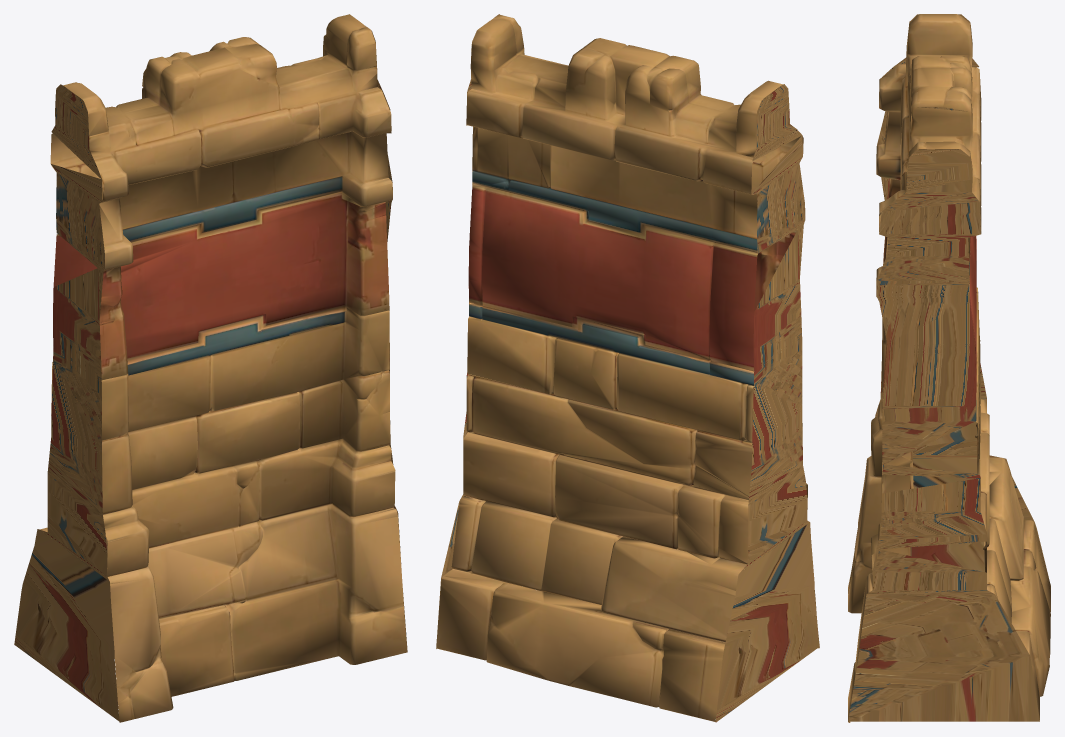
Rendered from SM_Tripo_DesertRampartPanel.glb.
The picture shows the model from 3 angles, left to right: view 1: azimuth 30°, elevation 25°; view 2: azimuth 150°, elevation 25°; view 3: azimuth 270°, elevation 25°; orthographic projection. The views are drawn at different scales.
Parts seen in each view (by area): view 1: SM_Tripo_DesertRampartPanel_LOD0; view 2: SM_Tripo_DesertRampartPanel_LOD0; view 3: SM_Tripo_DesertRampartPanel_LOD0.
Part boxes in pixels (<box>): SM_Tripo_DesertRampartPanel_LOD0: <box>14,14,407,722</box>; SM_Tripo_DesertRampartPanel_LOD0: <box>436,14,819,722</box>; SM_Tripo_DesertRampartPanel_LOD0: <box>848,14,1050,722</box>.
Size of the model in its own units: 4.5 by 8.93 by 2.85.
1 material, 1 textured.
